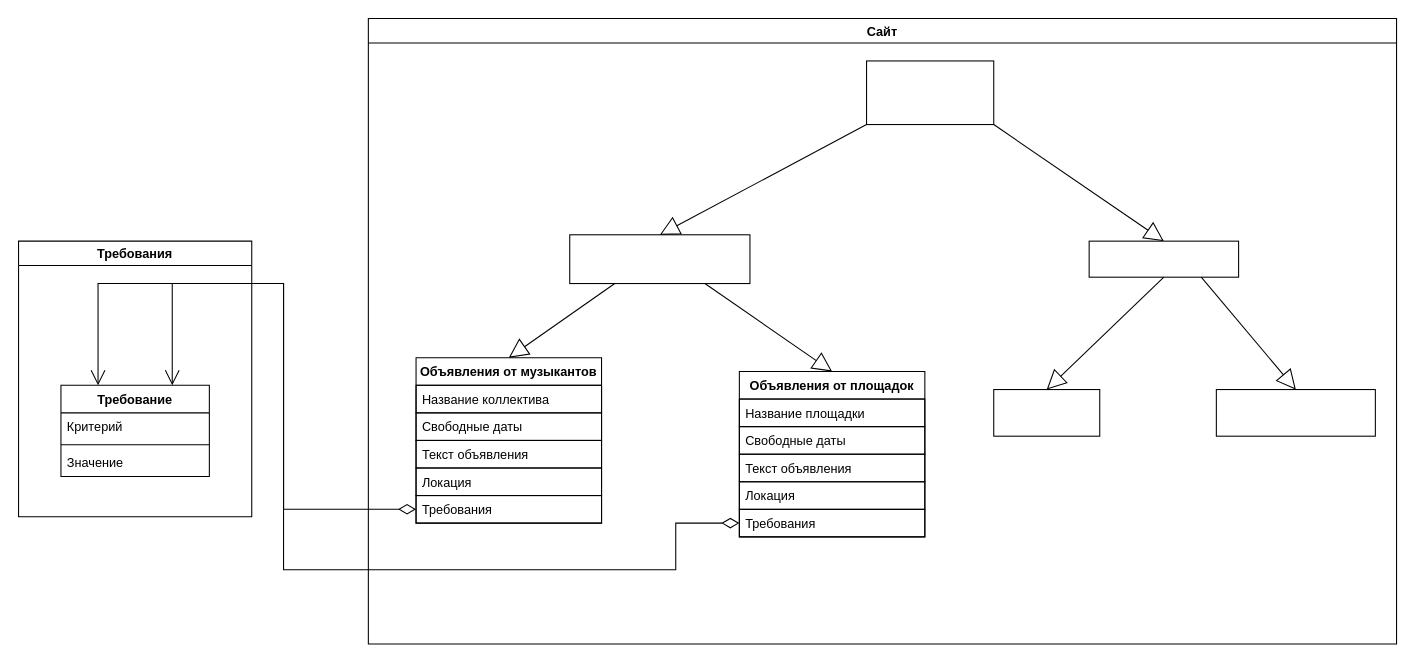
Image size: 1415x662. Some labels were removed from this diagram. The centre of each missing label's shape, as x and y in pixels:
"Музыкант" belongs at point (1046, 412).
"Представитель площадки" belongs at point (1295, 412).
"Страница веб-сервиса" belongs at point (929, 92).
"Страница пользователя" belongs at point (1163, 258).
"Страница с объявлениями" belongs at point (659, 259).
